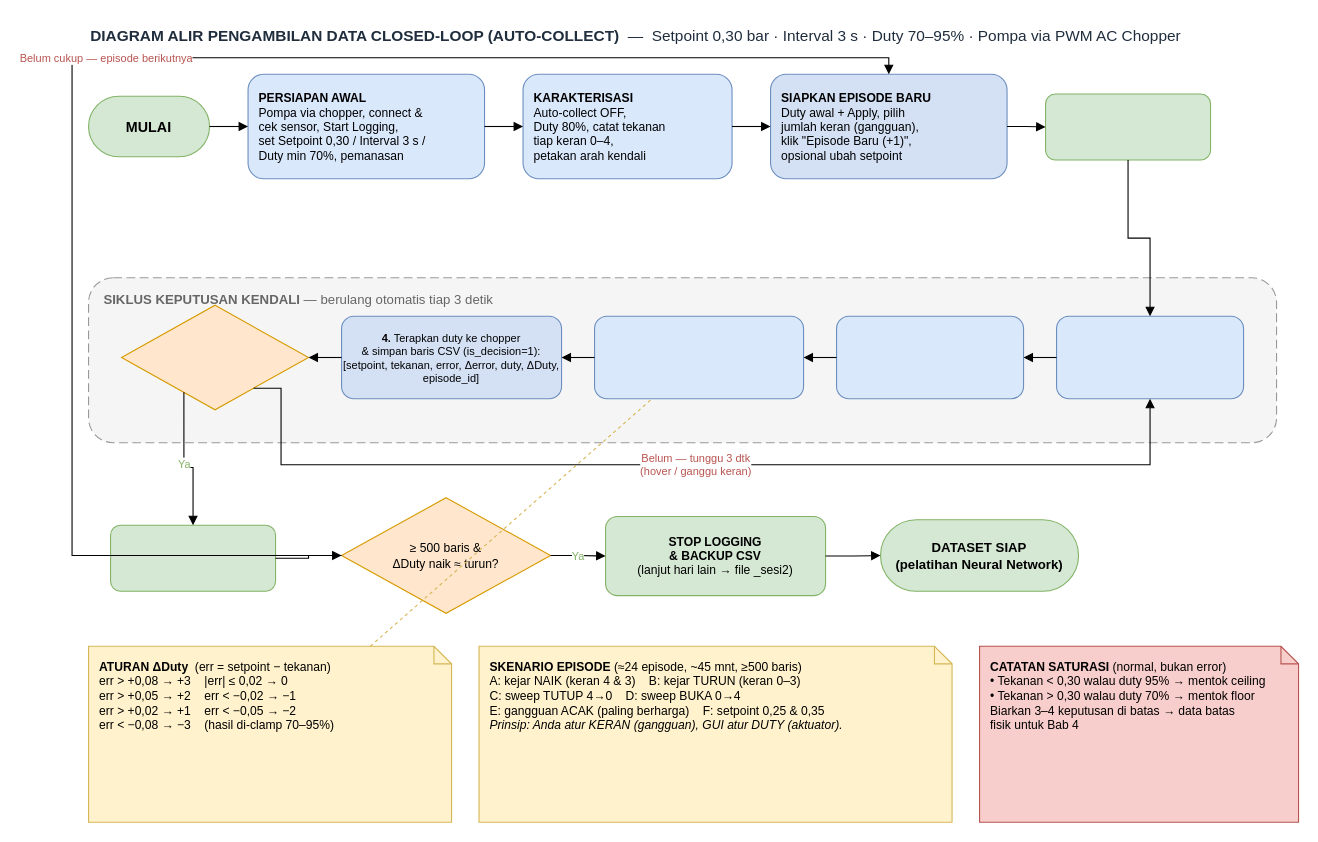
The diagram is 1318 pixels wide and 842 high, and some of its shapes have lost their labels. Here are the shapes that lost their labels. From the top down, the centre of each, then its label:
pixel 1127 126: START AUTO-COLLECT
pixel 214 357: Episode selesai?
pixel 698 357: 3. Tentukan ΔDuty (aturan) lalu clamp 70–95%
pixel 929 357: 2. Hitung error & Δerror
pixel 1149 357: 1. Baca tekanan sensor (PC1)
pixel 192 557: STOP AUTO-COLLECT
